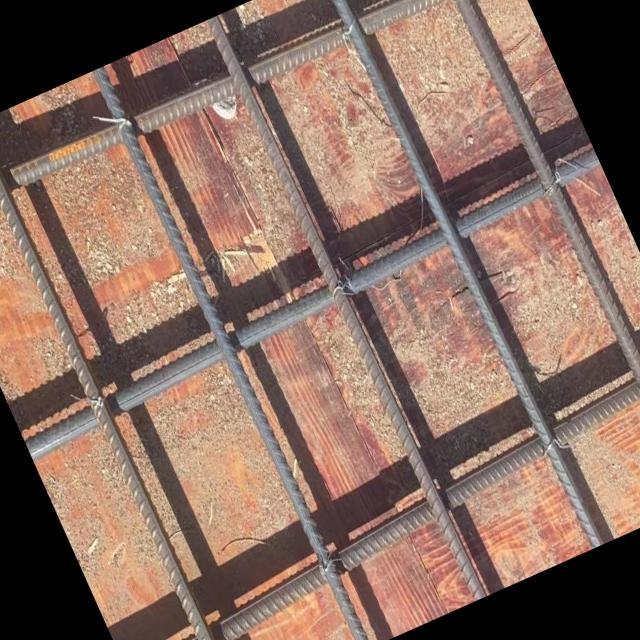ribbed bar: (9, 145, 616, 460), (205, 11, 488, 605), (91, 62, 372, 640), (317, 0, 604, 555), (99, 348, 640, 640), (0, 120, 242, 640), (0, 0, 515, 231), (416, 0, 640, 510)
